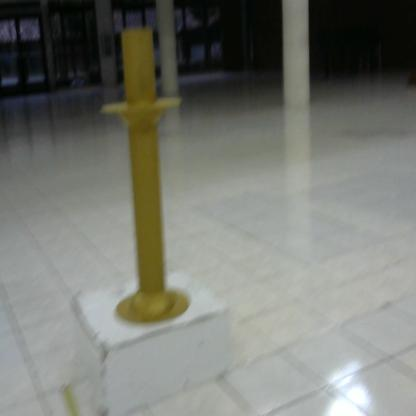pole: (94, 21, 205, 337)
